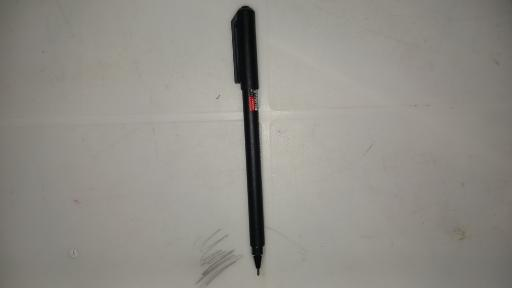pen: (231, 5, 267, 277)
